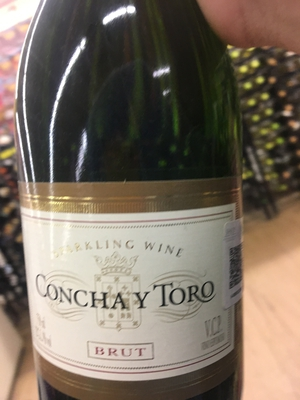brut: (10, 4, 245, 397)
